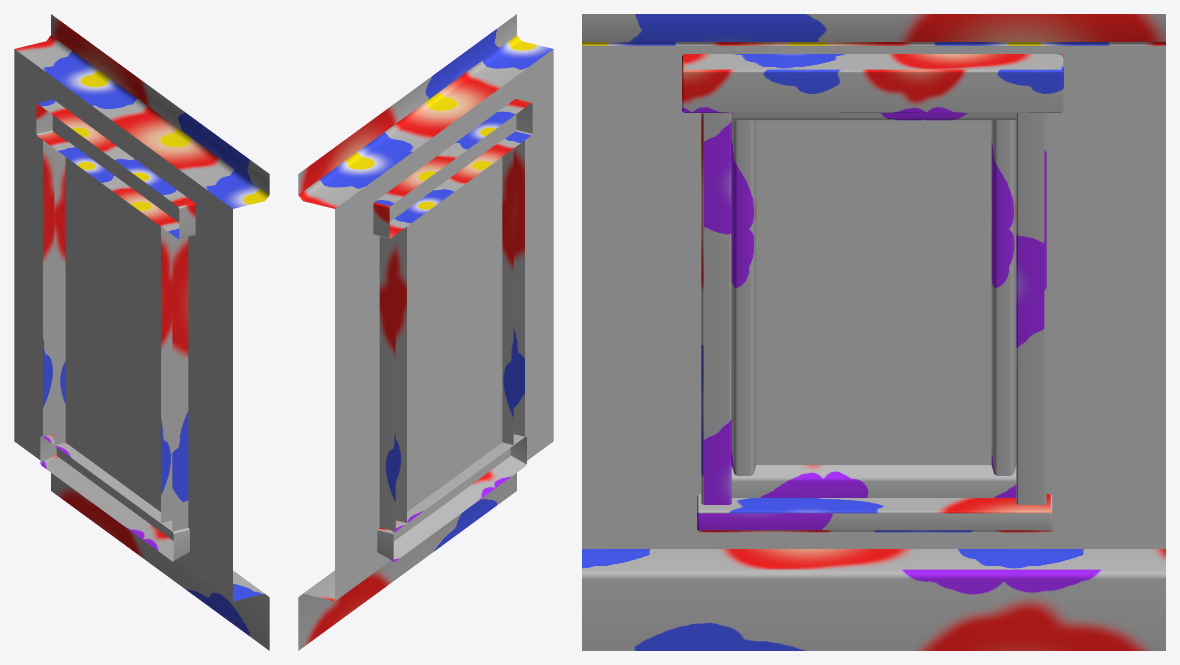
Rendered from SM_SS01_Wall.fbx.
The picture shows the model from 3 angles, left to right: view 1: azimuth 30°, elevation 25°; view 2: azimuth 150°, elevation 25°; view 3: azimuth 270°, elevation 25°; orthographic projection. The views are drawn at different scales.
Visible parts, largest first — view 1: SM_SS01_Wall; view 2: SM_SS01_Wall; view 3: SM_SS01_Wall.
Part boxes in pixels (bbox=[...]): SM_SS01_Wall: bbox=[14, 14, 269, 650]; SM_SS01_Wall: bbox=[298, 14, 553, 650]; SM_SS01_Wall: bbox=[582, 14, 1165, 650].
Bounding box in the file's own units: 77.02 × 662 × 550.
